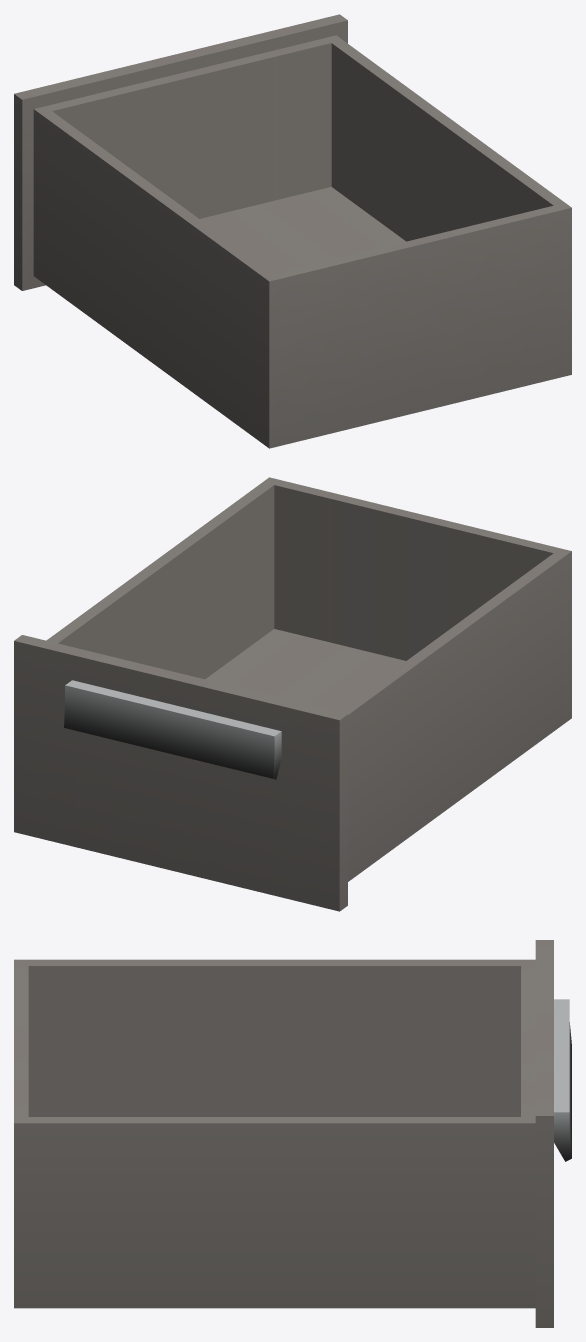
File: Drawer_OfficeDesk3_Bottom.fbx
3 renders of one model, top to bottom at view 1: azimuth 30°, elevation 25°; view 2: azimuth 150°, elevation 25°; view 3: azimuth 270°, elevation 25°, orthographic. The views are drawn at different scales.
Visible parts, largest first — view 1: Drawer_OfficeDesk3_Bottom; view 2: Drawer_OfficeDesk3_Bottom; view 3: Drawer_OfficeDesk3_Bottom.
Boxes of the visible parts, left/top/right/bottom form: Drawer_OfficeDesk3_Bottom: left=14, top=14, right=571, bottom=448; Drawer_OfficeDesk3_Bottom: left=14, top=477, right=571, bottom=911; Drawer_OfficeDesk3_Bottom: left=14, top=940, right=571, bottom=1327.
Bounding box in the file's own units: 44.19 × 24.8 × 59.19.
